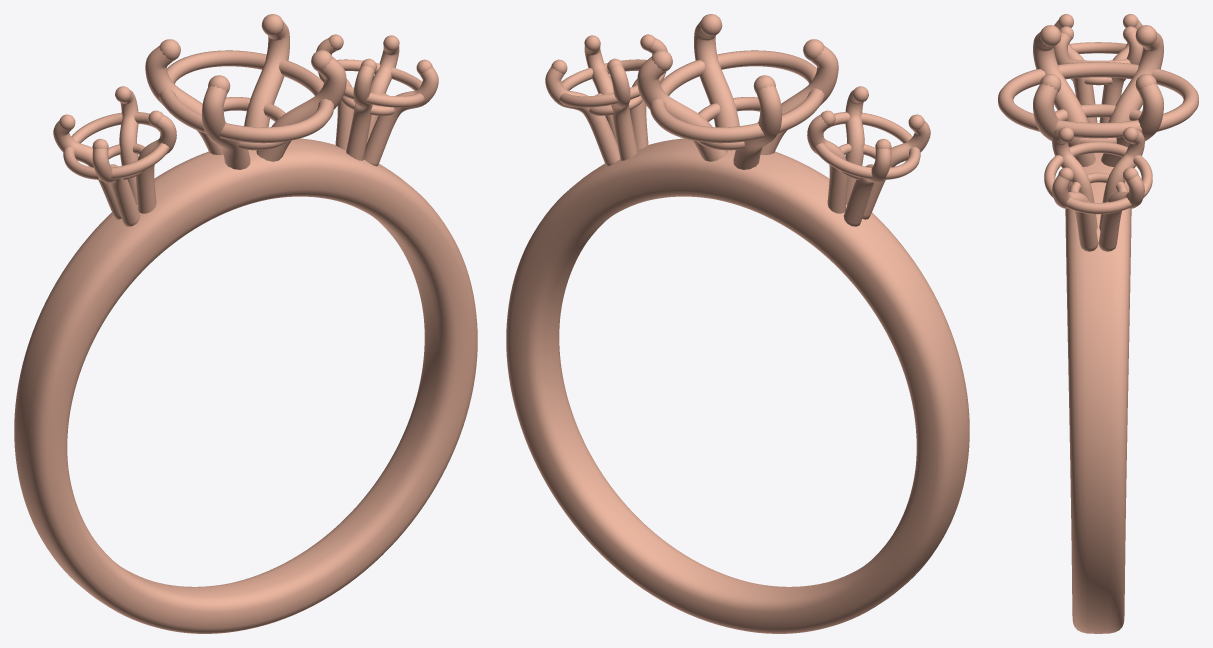
File: Ring_ThreeStone.glb
The picture shows the model from 3 angles, left to right: view 1: azimuth 30°, elevation 25°; view 2: azimuth 150°, elevation 25°; view 3: azimuth 270°, elevation 25°; orthographic projection. The views are drawn at different scales.
Visible parts, largest first — view 1: Band, Head_Center, Head_SideR, Head_SideL; view 2: Band, Head_Center, Head_SideR, Head_SideL; view 3: Band, Head_Center, Head_SideL, Head_SideR.
Boxes of the visible parts, box(x1,y1,x2,y2) form: Band: box(14, 138, 477, 633); Head_Center: box(145, 14, 346, 169); Head_SideR: box(53, 86, 176, 226); Head_SideL: box(316, 34, 438, 166); Band: box(506, 138, 969, 633); Head_Center: box(637, 14, 838, 169); Head_SideR: box(807, 86, 930, 226); Head_SideL: box(545, 34, 667, 166); Band: box(1065, 153, 1131, 633); Head_Center: box(998, 25, 1198, 166); Head_SideL: box(1044, 127, 1152, 251); Head_SideR: box(1054, 14, 1142, 122).
Bounding box in the file's own units: 0.0207 × 0.0256 × 0.00831.
